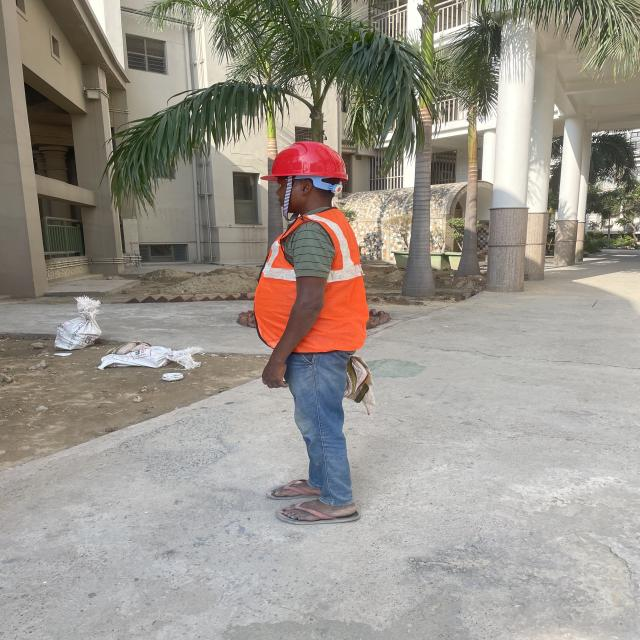safe: (254, 142, 370, 524)
